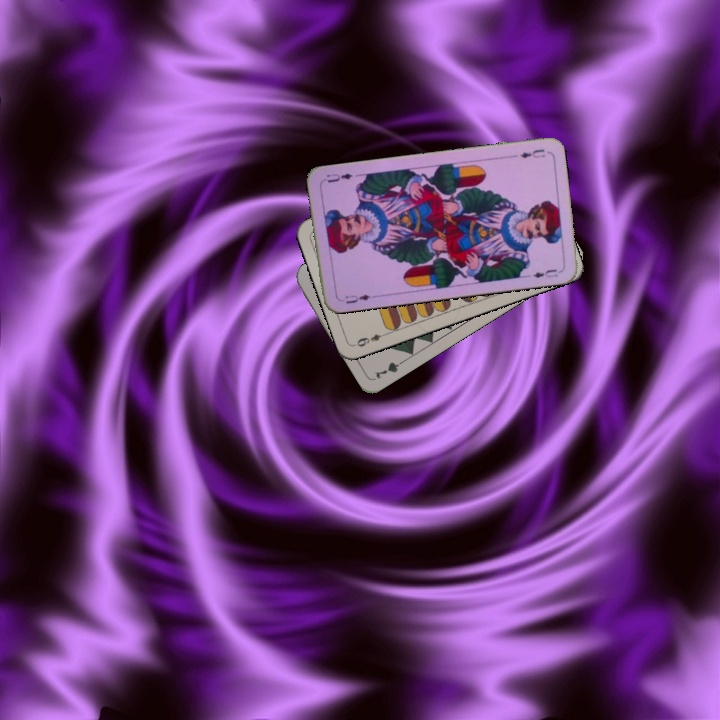E9: (353, 328, 390, 350)
EU: (341, 290, 373, 306), (516, 145, 548, 161)
G7: (370, 355, 409, 381)
